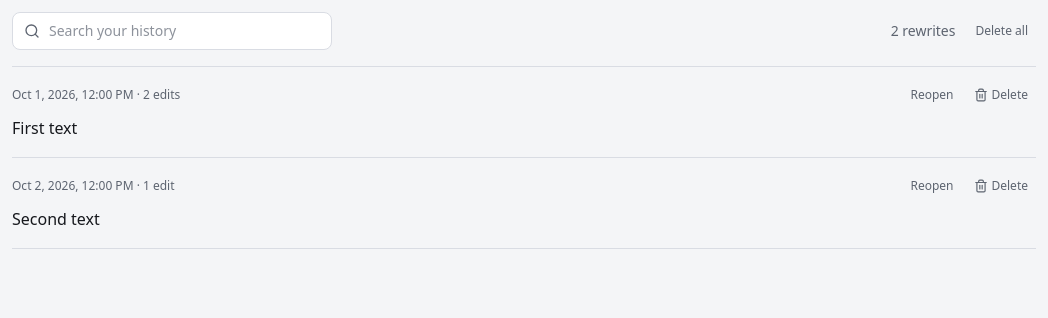
Test: HistoryList › keeps the entry and says so when the delete fails
Click the button "Delete" in the row of "2 edits" at (1001, 95), box top-left (966, 83), bottom-right (1036, 107)
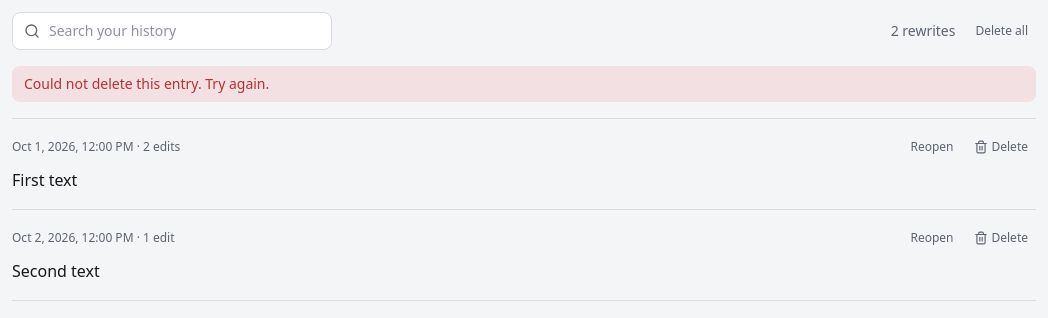
Expected: the text "First text" is shown, top-left (12, 169), bottom-right (77, 191)
Expected: the message shows "Could not delete", top-left (24, 74), bottom-right (269, 93)
